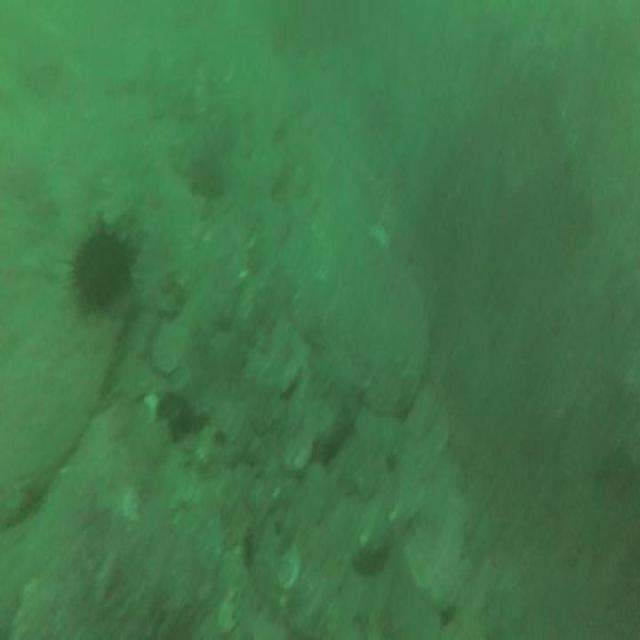echinus: (73, 234, 131, 311)
